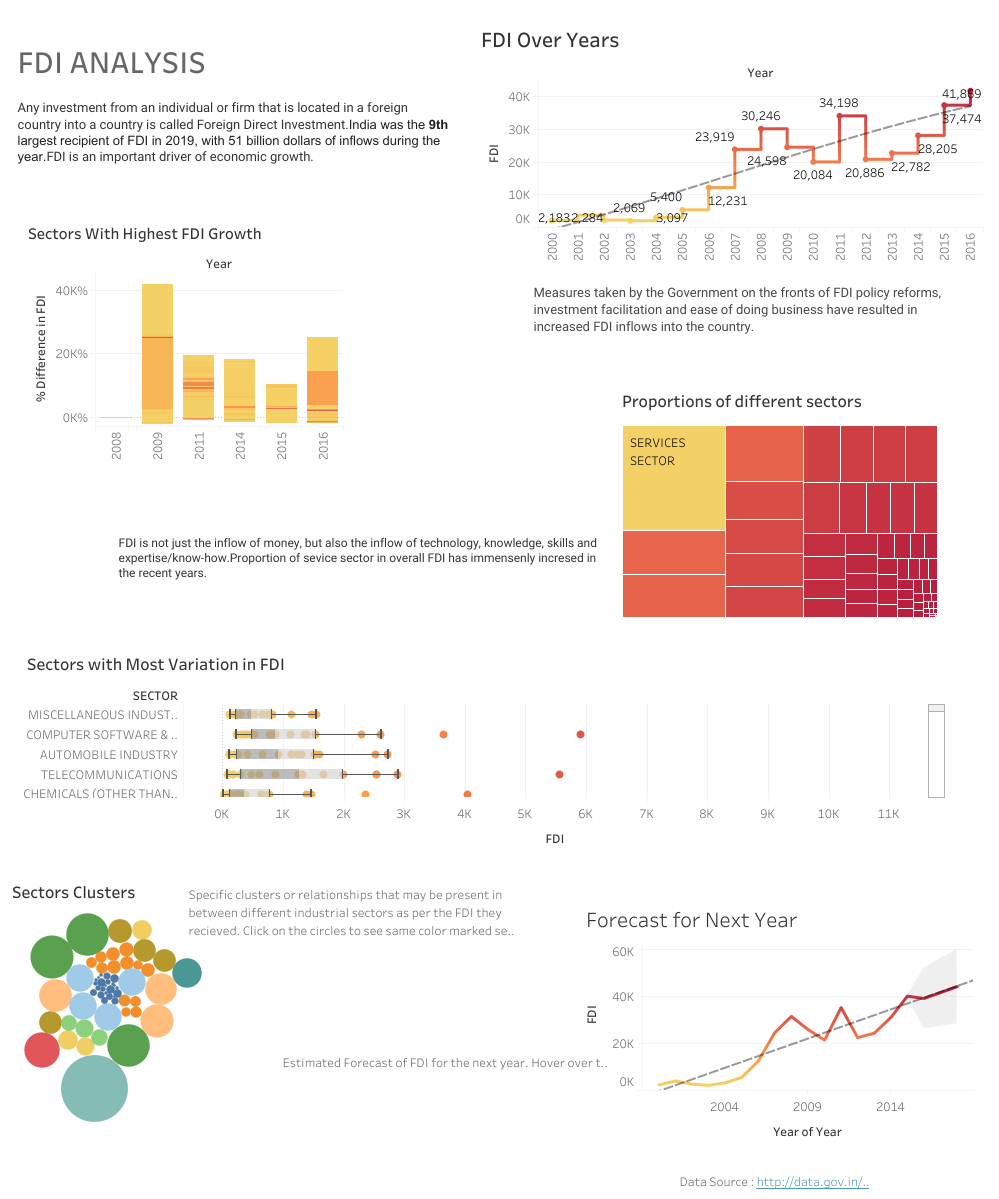

The dashboard page shown, as its layout file describes it:
{"tool":"tableau","page":{"name":"FDI ANALYSIS IN INDIA","canvas":[1000,1200],"ordinal":0},"visuals":[{"type":"worksheet","box":[0,0,1000,1200]},{"type":"worksheet","param":"horz","box":[0,0,1000,1200]},{"type":"worksheet","box":[15,19,436,167]},{"type":"worksheet","title":"FDI Over Years","mark":"Automatic","rows":["Pivot Field Values"],"cols":["Calculation_1379790341879324672"],"box":[477,19,506,248]},{"type":"worksheet","title":"High Growth FDI Sectors","mark":"Bar","rows":["Pivot Field Values"],"cols":["Calculation_1379790341879324672"],"box":[20,212,327,258]},{"type":"worksheet","box":[531,281,445,60]},{"type":"worksheet","title":"Proportion of Each Sector in FDI","mark":"Automatic","box":[614,379,355,247]},{"type":"worksheet","box":[116,523,499,69]},{"type":"worksheet","title":"Sectors with Most Variation in FDI","mark":"Circle","rows":["Sector"],"cols":["Pivot Field Values"],"box":[23,646,922,208]},{"type":"worksheet","title":"Clusters","mark":"Circle","box":[4,870,251,256]},{"type":"worksheet","box":[186,878,333,68]},{"type":"worksheet","title":"Forecast for Next Year","mark":"Automatic","rows":["Pivot Field Values"],"cols":["Calculation_1379790341879324672"],"box":[578,895,399,256]},{"type":"worksheet","box":[280,1045,333,34]},{"type":"worksheet","box":[677,1164,319,34]}]}

Visuals, with their boxes in screenshot pixels (x1, y1, x2, y2), scaled from the page's 1000x1200 canvas onto the 999x1199 screenshot:
worksheet: l=0, t=0, r=998, b=1198
worksheet: l=0, t=0, r=998, b=1198
worksheet: l=15, t=19, r=451, b=186
"FDI Over Years" worksheet: l=477, t=19, r=982, b=267
"High Growth FDI Sectors" worksheet (Bar marks): l=20, t=212, r=347, b=470
worksheet: l=530, t=281, r=975, b=341
"Proportion of Each Sector in FDI" worksheet: l=613, t=379, r=968, b=625
worksheet: l=116, t=523, r=614, b=592
"Sectors with Most Variation in FDI" worksheet (Circle marks): l=23, t=645, r=944, b=853
"Clusters" worksheet (Circle marks): l=4, t=869, r=255, b=1125
worksheet: l=186, t=877, r=518, b=945
"Forecast for Next Year" worksheet: l=577, t=894, r=976, b=1150
worksheet: l=280, t=1044, r=612, b=1078
worksheet: l=676, t=1163, r=995, b=1197
